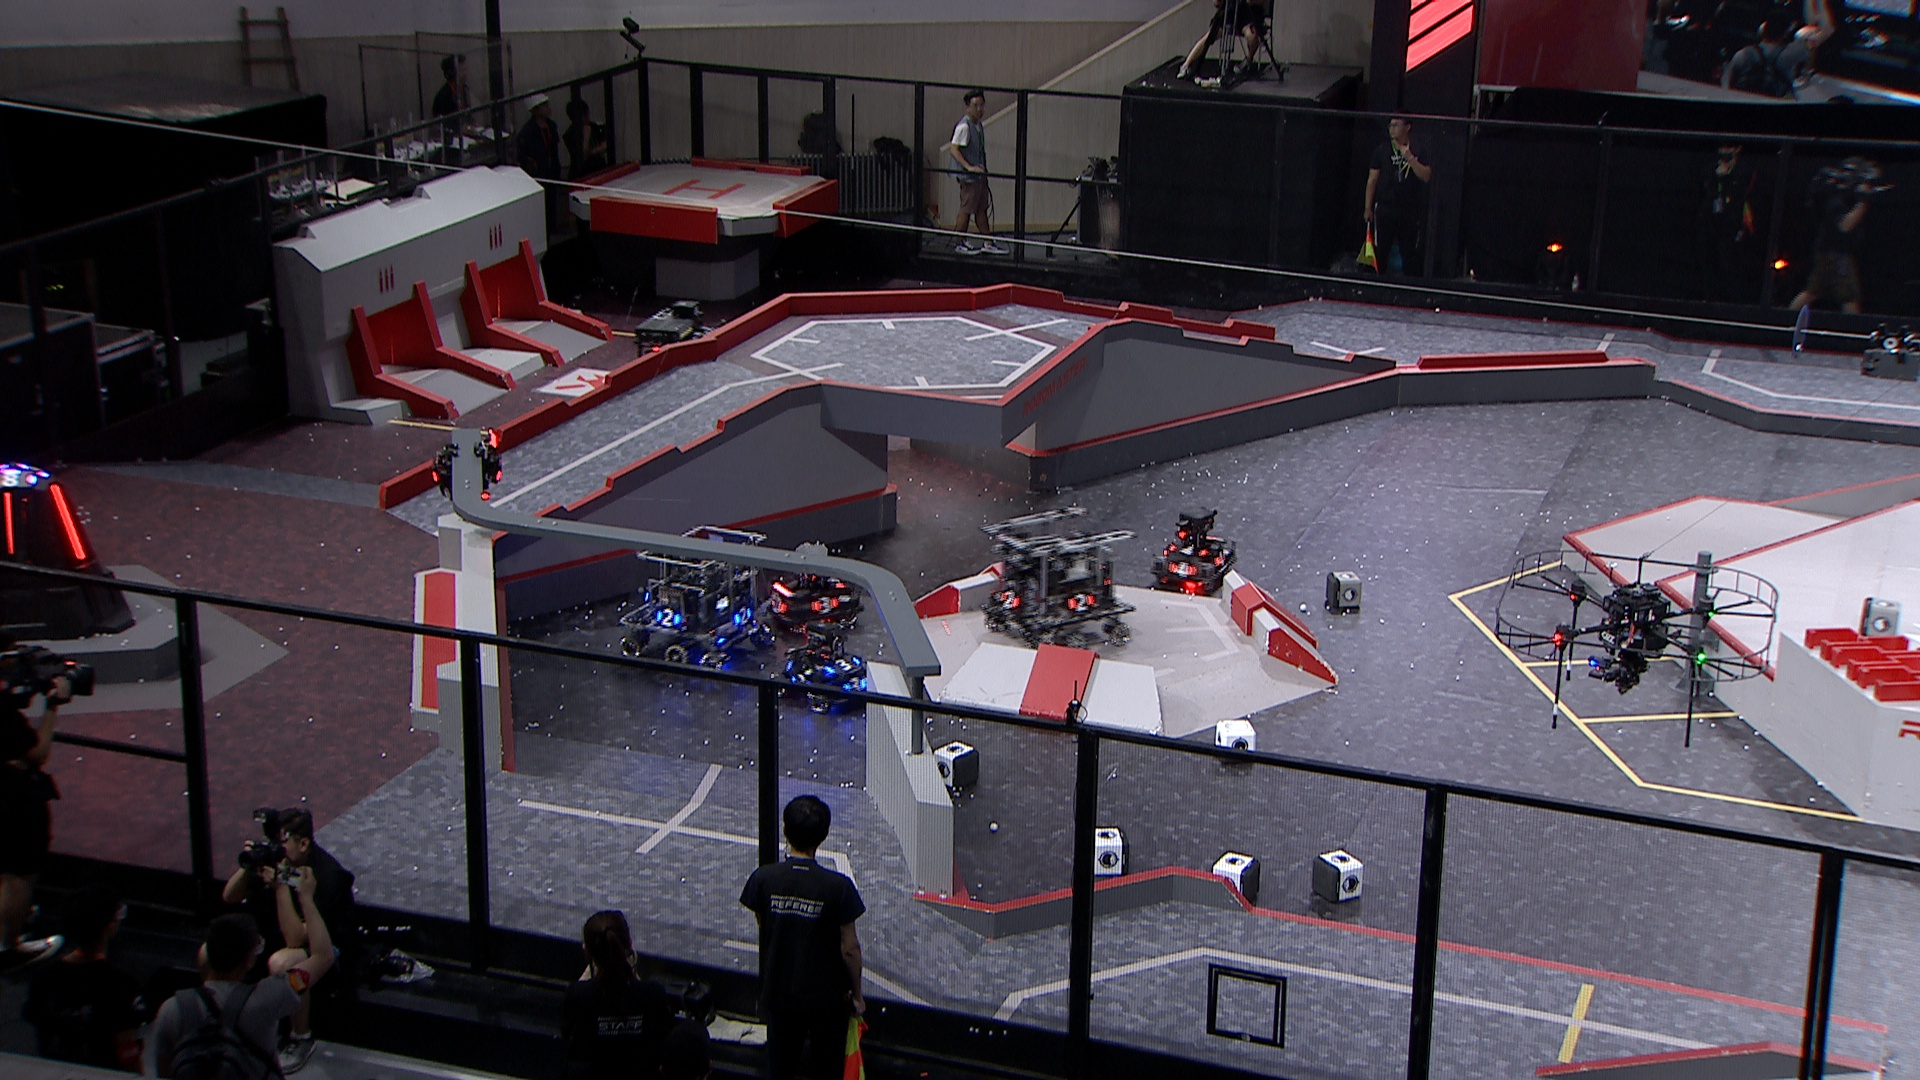armor: (45, 481, 84, 560), (3, 491, 16, 556), (825, 655, 858, 676), (654, 607, 680, 628), (812, 593, 837, 615), (844, 680, 870, 698), (1000, 589, 1019, 611), (1069, 593, 1093, 611), (1174, 542, 1201, 556), (1172, 560, 1195, 578), (825, 571, 845, 589), (733, 605, 752, 622), (769, 595, 785, 615), (1215, 549, 1229, 570), (790, 670, 808, 684)
car: (613, 522, 773, 679), (978, 505, 1131, 654), (757, 541, 873, 641), (626, 297, 731, 396), (1150, 504, 1242, 597), (774, 622, 870, 709)
watcher: (430, 425, 513, 514)
